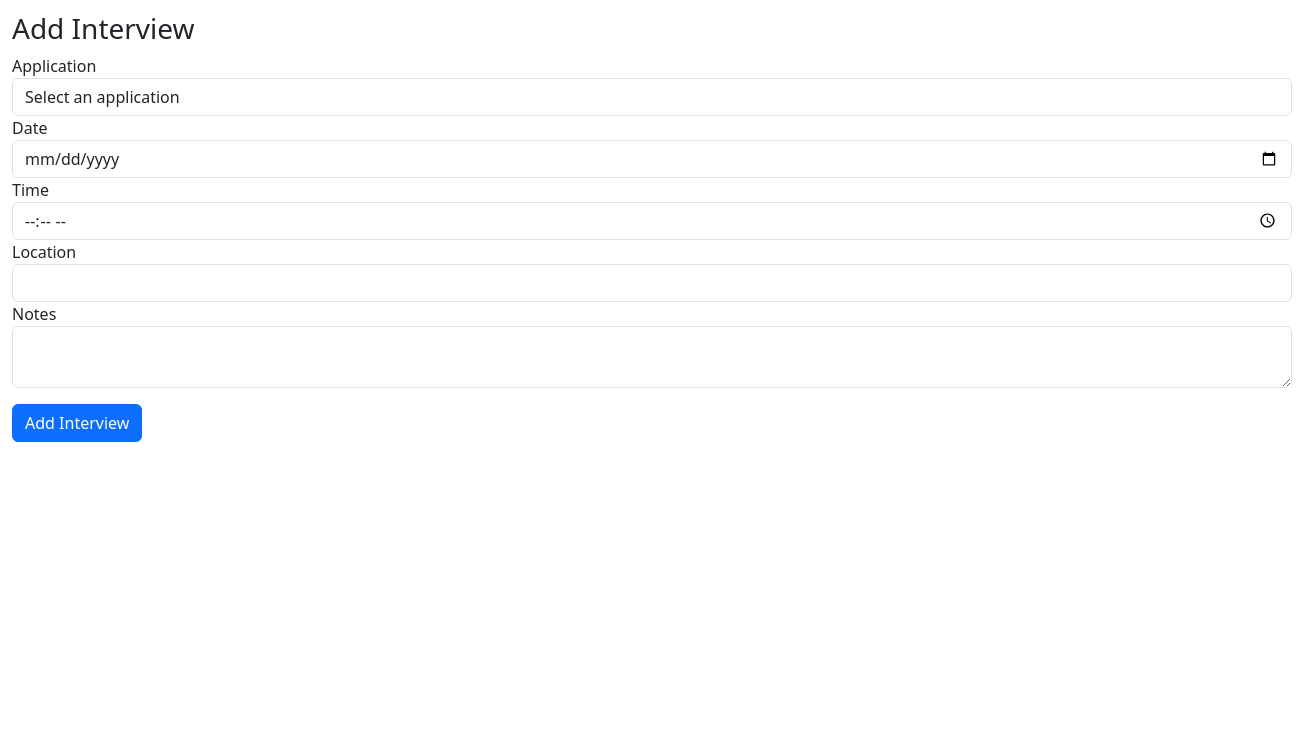
it: AddInterviewForm Component › validates required fields on submit
Click the button "Add Interview" at (77, 423), box [12, 404, 142, 442]
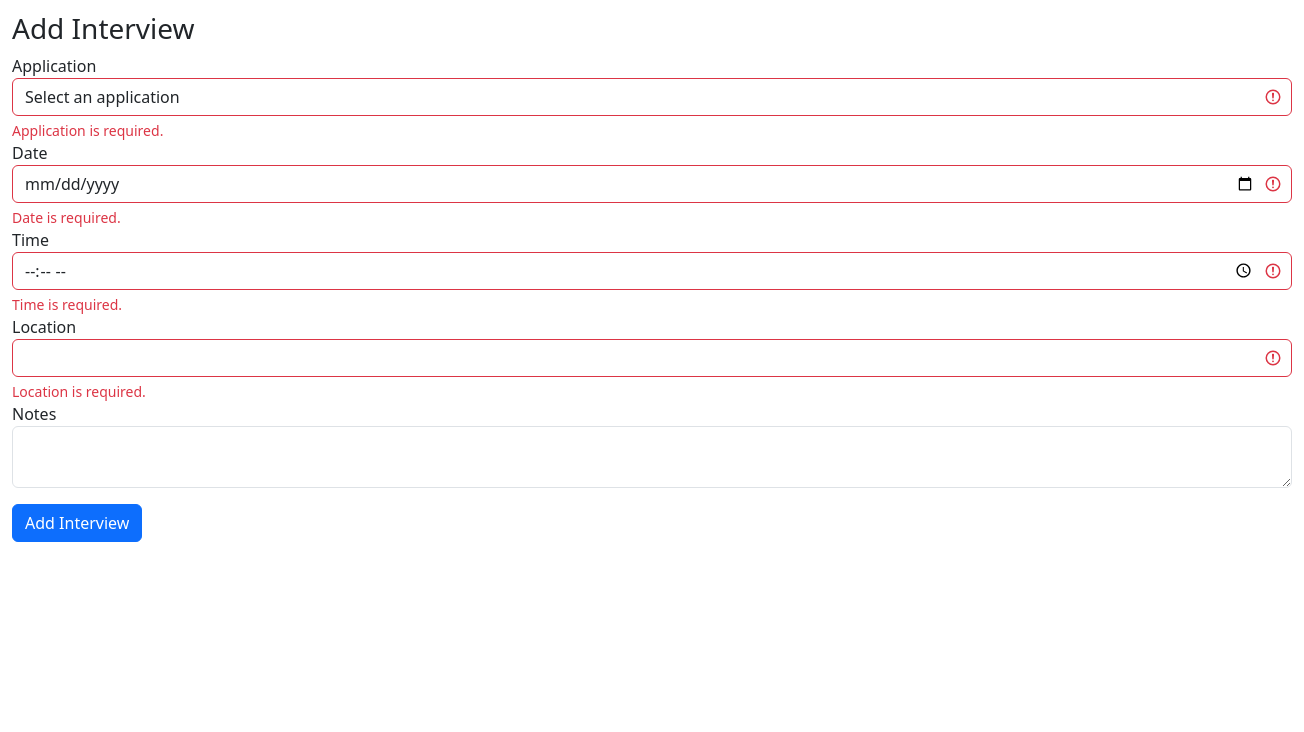
Expected: the text "Application is required." is shown, [12, 121, 163, 140]
Expected: the text "Date is required." is shown, [12, 208, 121, 227]
Expected: the text "Time is required." is shown, [12, 295, 122, 314]
